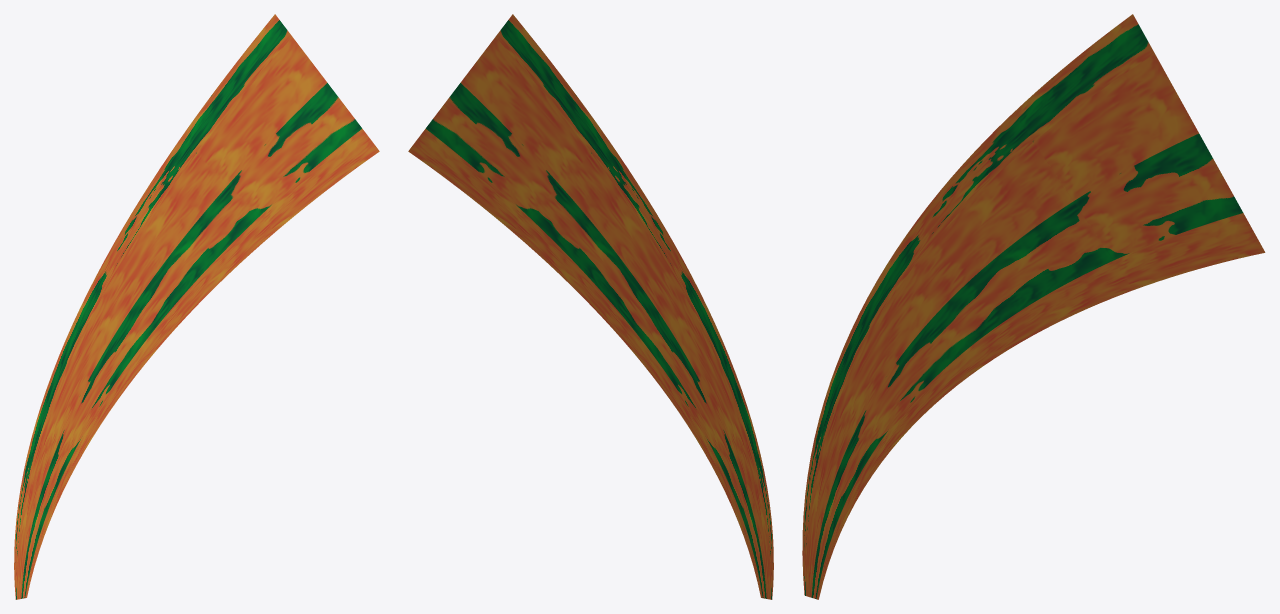
The model's file is p_trashbot_start_sprinkler03.fbx.
3 views of the same model, side by side, from view 1: azimuth 30°, elevation 25°; view 2: azimuth 150°, elevation 25°; view 3: azimuth 330°, elevation 25° (orthographic). The views are drawn at different scales.
Parts seen in each view (by area): view 1: p_sprinkle_start_plane03; view 2: p_sprinkle_start_plane03; view 3: p_sprinkle_start_plane03.
Part boxes in pixels (x1,y1,x2,y2): p_sprinkle_start_plane03: [14, 14, 379, 599]; p_sprinkle_start_plane03: [408, 14, 773, 599]; p_sprinkle_start_plane03: [802, 14, 1265, 599].
Size of the model in its own units: 10.98 by 15.02 by 7.1e-06.
